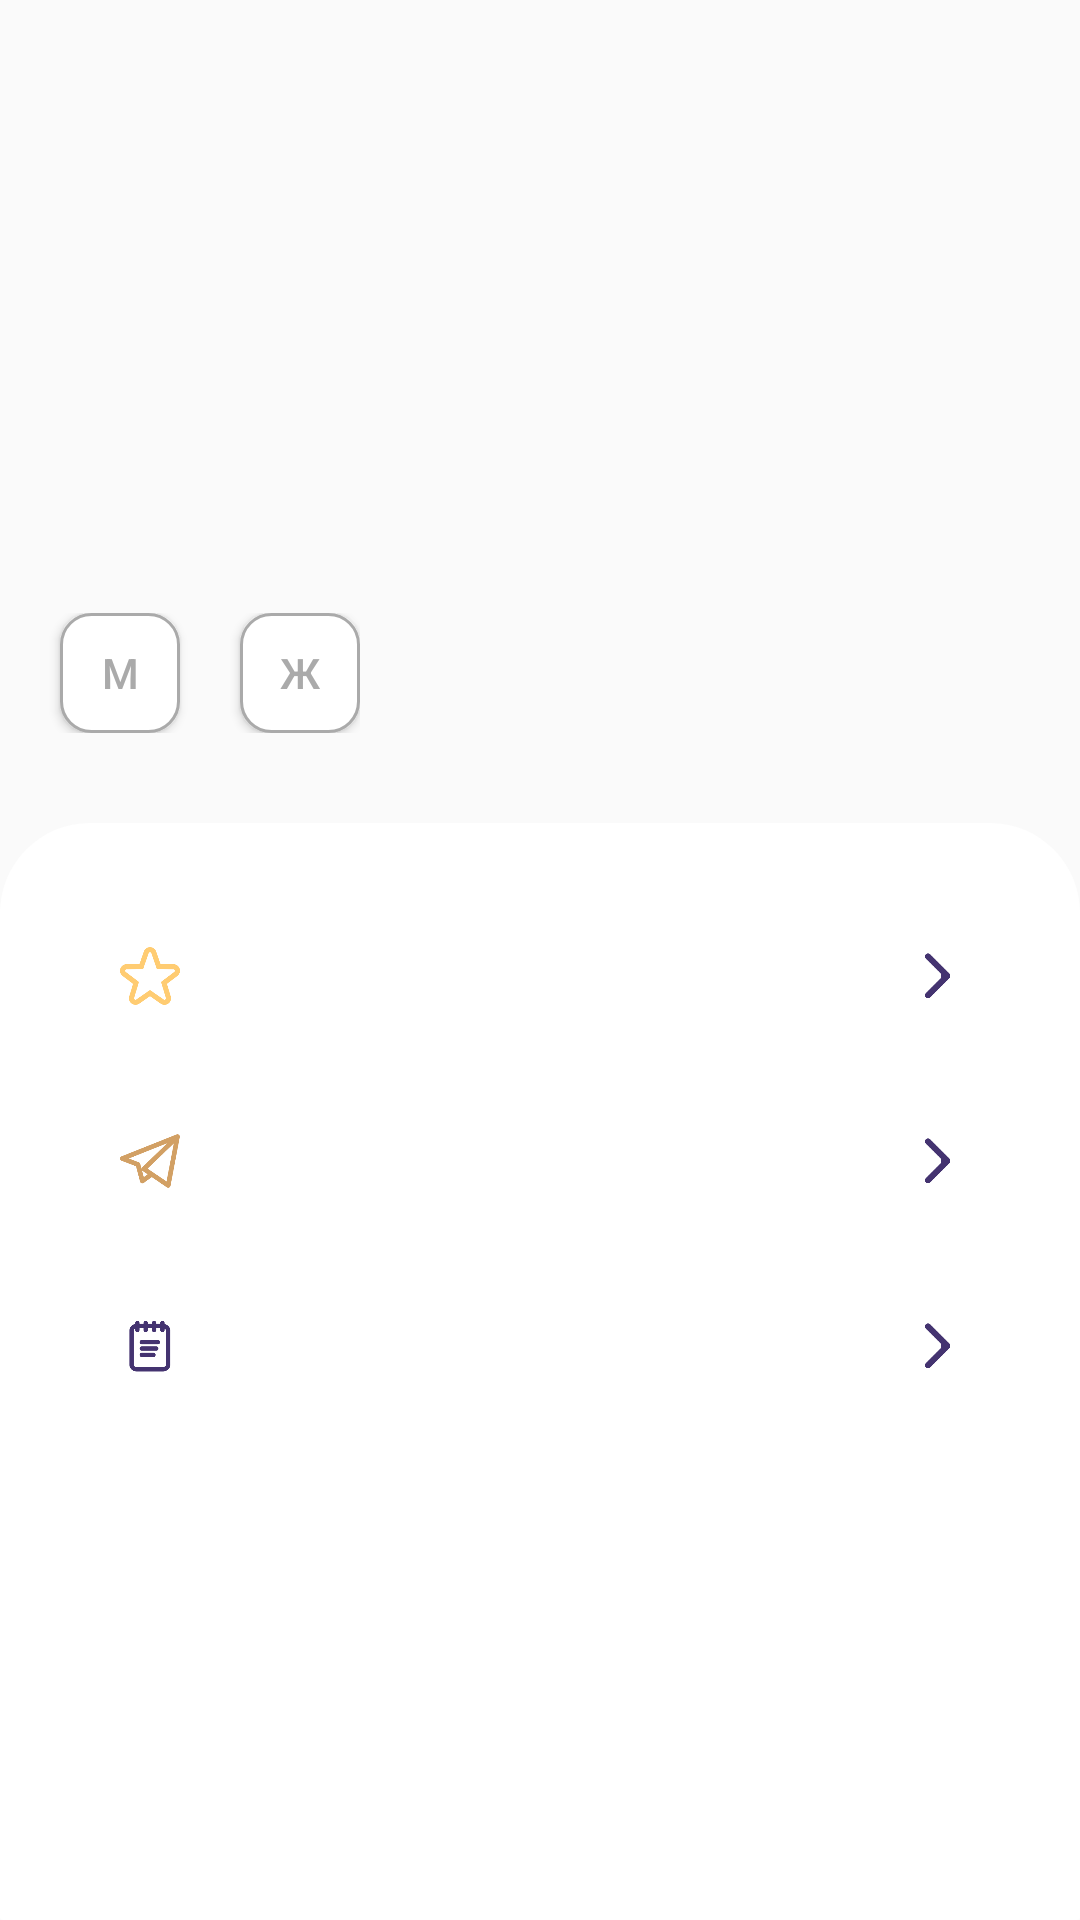

Named icons in this screenshot (1080 x 1920) and their bounding boxes, (left=x1, top=y1, right=x2, bottom=y2):
settings arrow: (left=925, top=953, right=950, bottom=998), (left=925, top=1138, right=950, bottom=1183), (left=925, top=1323, right=950, bottom=1368)
star: (left=120, top=947, right=180, bottom=1005)
telegram: (left=120, top=1134, right=180, bottom=1188)
